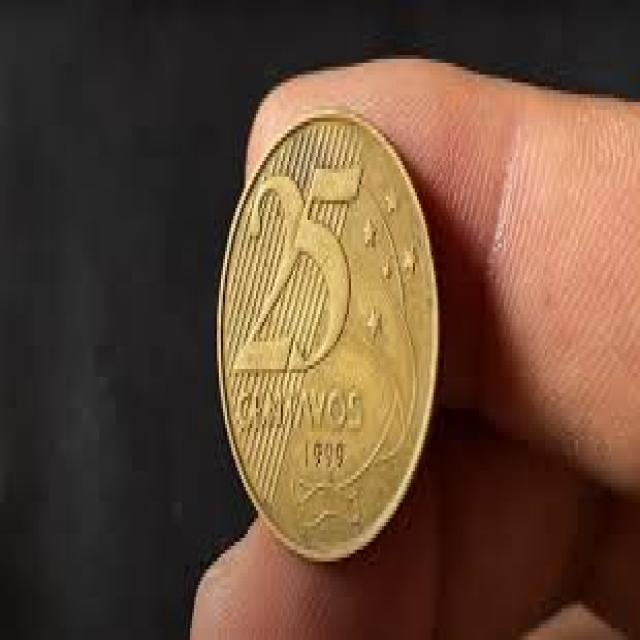25 cent: (225, 127, 440, 541)
